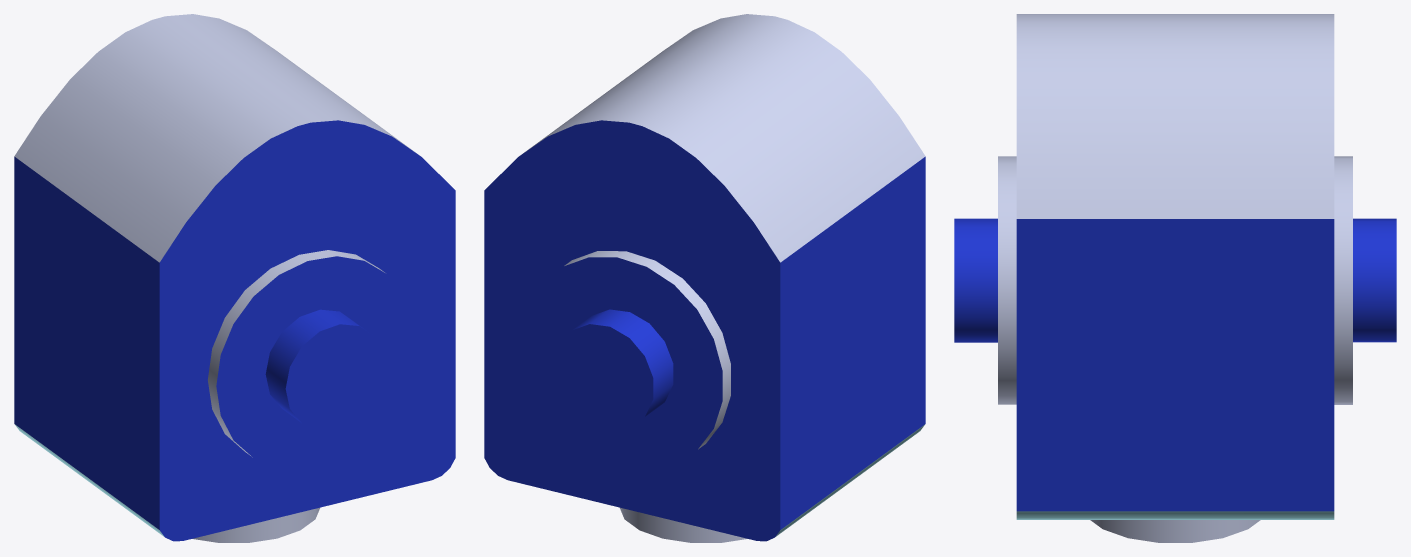
The picture shows the model from 3 angles, left to right: view 1: azimuth 30°, elevation 25°; view 2: azimuth 150°, elevation 25°; view 3: azimuth 270°, elevation 25°; orthographic projection. The views are drawn at different scales.
Parts seen in each view (by area): view 1: mesh 2 link5, mesh 1 link5, mesh 3 link5; view 2: mesh 2 link5, mesh 1 link5, mesh 3 link5; view 3: mesh 2 link5, mesh 1 link5, mesh 3 link5.
Boxes of the visible parts, x1,y1,x2,y2 form: mesh 2 link5: (14, 120, 455, 541); mesh 1 link5: (14, 14, 416, 542); mesh 3 link5: (15, 424, 164, 536); mesh 2 link5: (484, 120, 925, 541); mesh 1 link5: (523, 14, 925, 542); mesh 3 link5: (775, 424, 924, 536); mesh 2 link5: (954, 218, 1396, 511); mesh 1 link5: (998, 14, 1352, 542); mesh 3 link5: (1016, 511, 1334, 519).
Bounding box in the file's own units: 0.06 × 0.0845 × 0.071.
